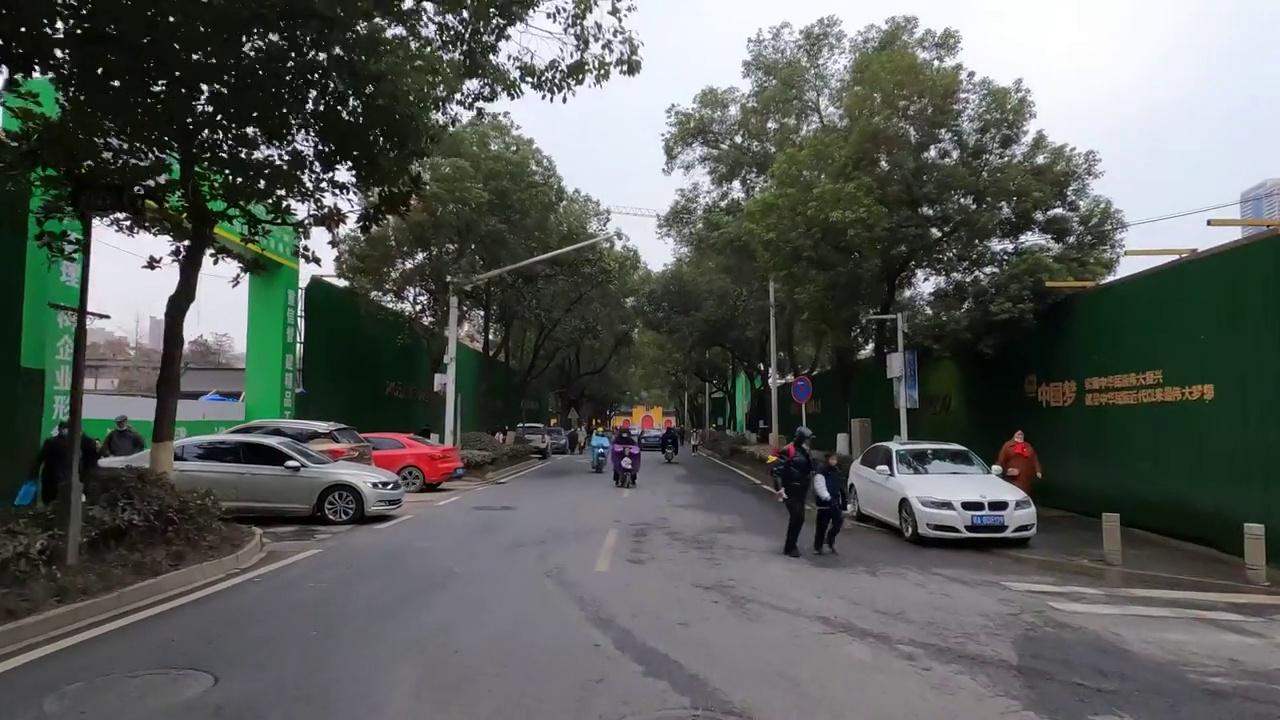lane: (1, 549, 327, 671), (705, 456, 772, 492), (591, 526, 620, 577), (369, 510, 414, 528)
